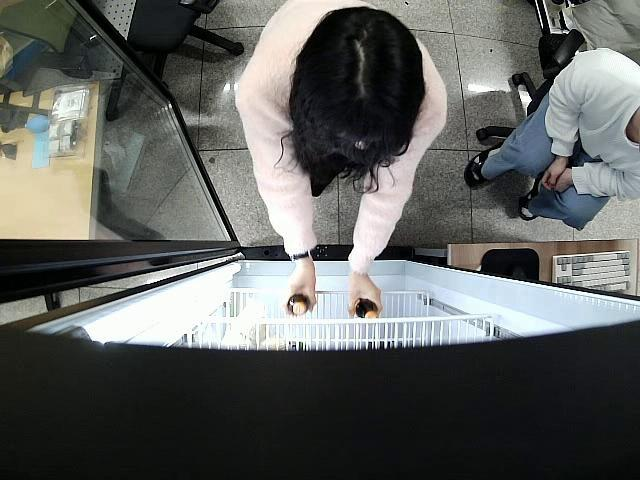17_vita500: (354, 298, 381, 321), (286, 294, 312, 317)
